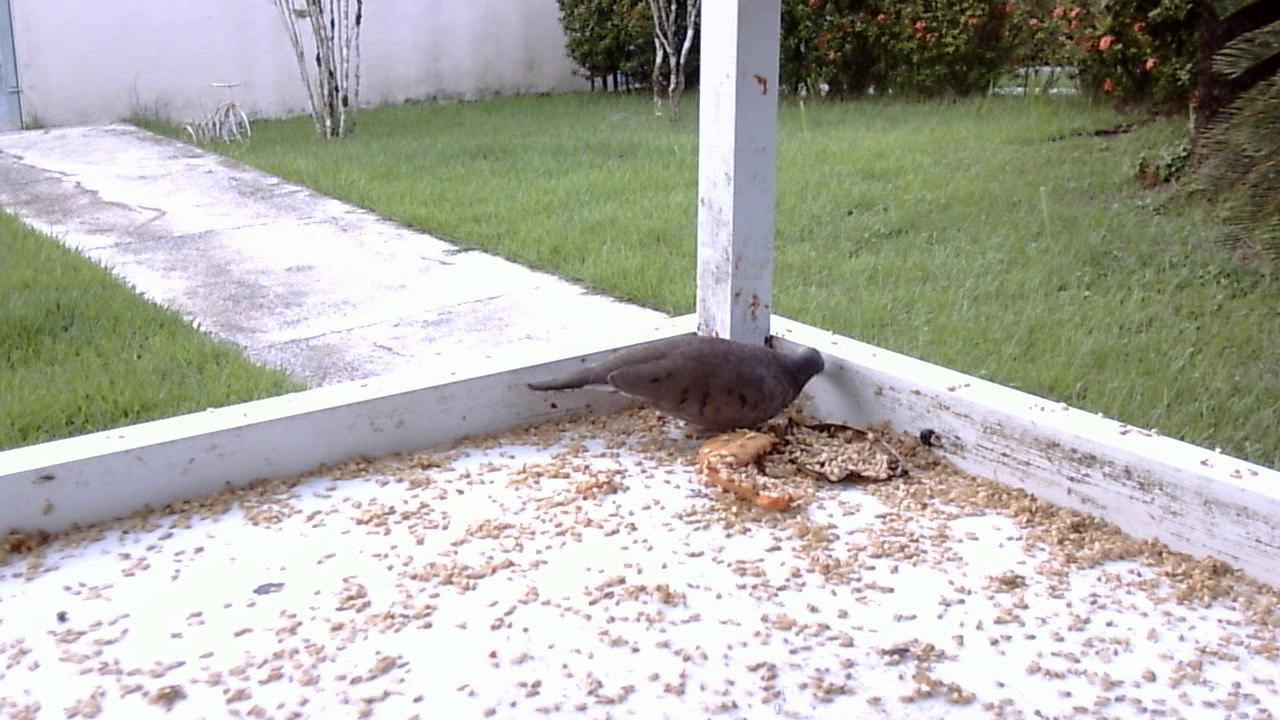rolinha: (523, 324, 833, 450)
